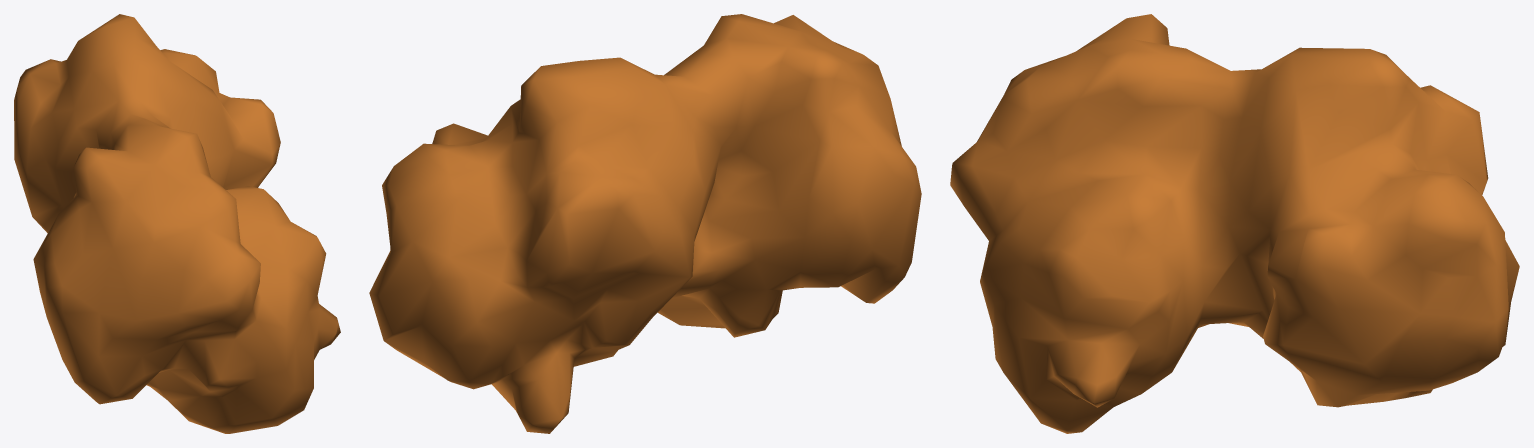
Rendered from Transferrin.fbx.
3 views of the same model, side by side, from view 1: azimuth 30°, elevation 25°; view 2: azimuth 150°, elevation 25°; view 3: azimuth 270°, elevation 25° (orthographic). The views are drawn at different scales.
Visible parts, largest first — view 1: CoarseMS_1lfgRed90; view 2: CoarseMS_1lfgRed90; view 3: CoarseMS_1lfgRed90.
Part boxes in pixels (x1,y1,x2,y2): CoarseMS_1lfgRed90: [14, 14, 340, 433]; CoarseMS_1lfgRed90: [369, 14, 921, 433]; CoarseMS_1lfgRed90: [950, 14, 1519, 433].
Bounding box in the file's own units: 69.6 × 64.41 × 92.2.
